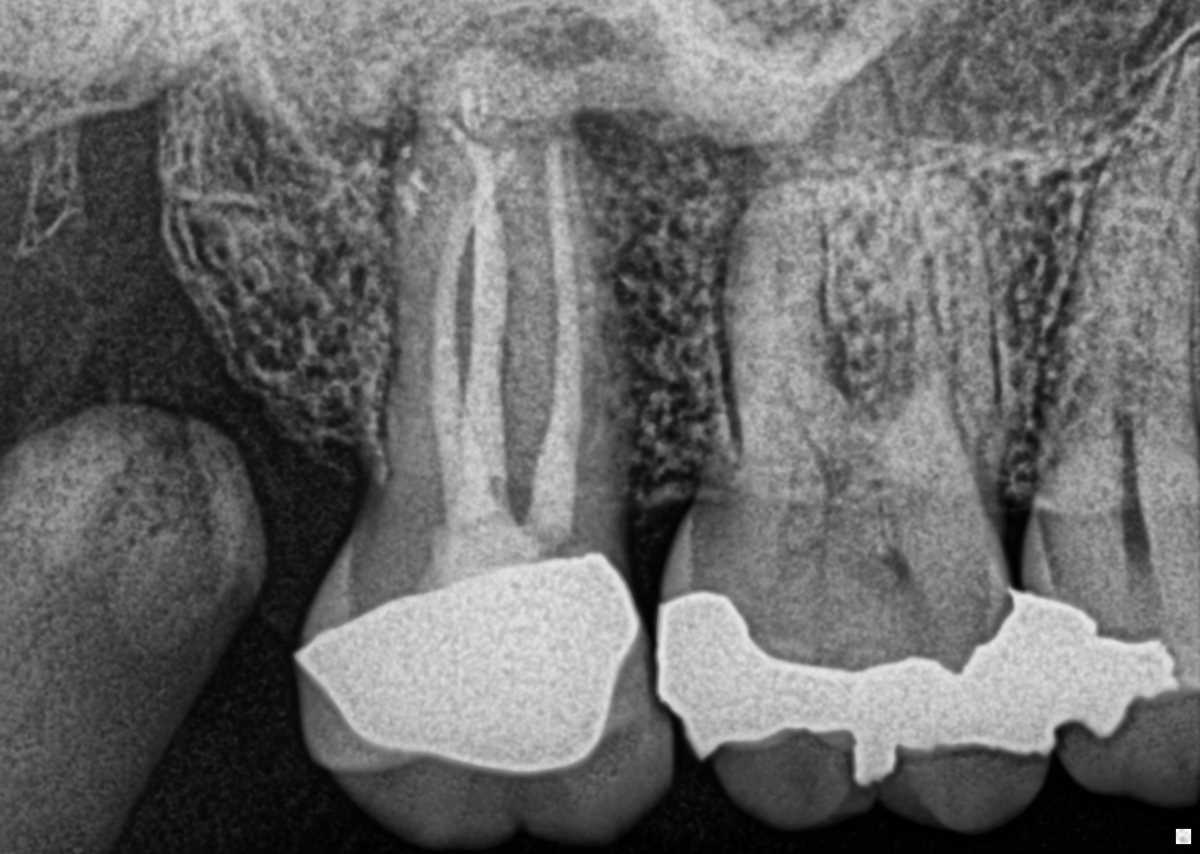Apical Lesion: (375, 0, 671, 163), (713, 145, 826, 213)
Distal Root: (385, 129, 529, 474), (716, 185, 856, 461)
Main Canal: (1115, 400, 1139, 477)
Main Root: (1027, 36, 1200, 484)
Mesial Root: (509, 138, 633, 485), (885, 171, 1001, 479)
Palatal Root: (731, 27, 970, 490)
Root Canal Filling: (384, 47, 623, 495), (429, 148, 519, 522), (445, 145, 521, 538)
